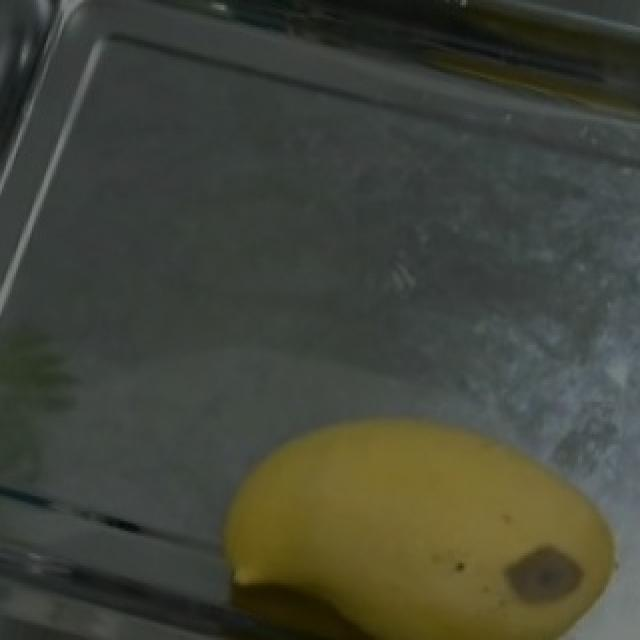fruit: (178, 359, 622, 640)
